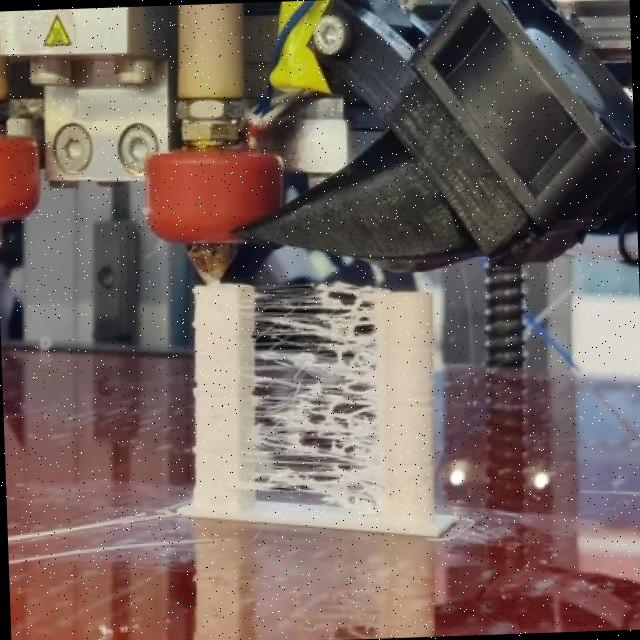stringing: (230, 270, 403, 524)
